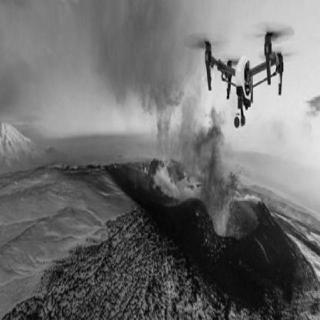Fire: (203, 159, 245, 243)
Smoke: (97, 4, 177, 107), (0, 30, 26, 110), (202, 109, 228, 183), (183, 102, 201, 172), (158, 104, 172, 188)
